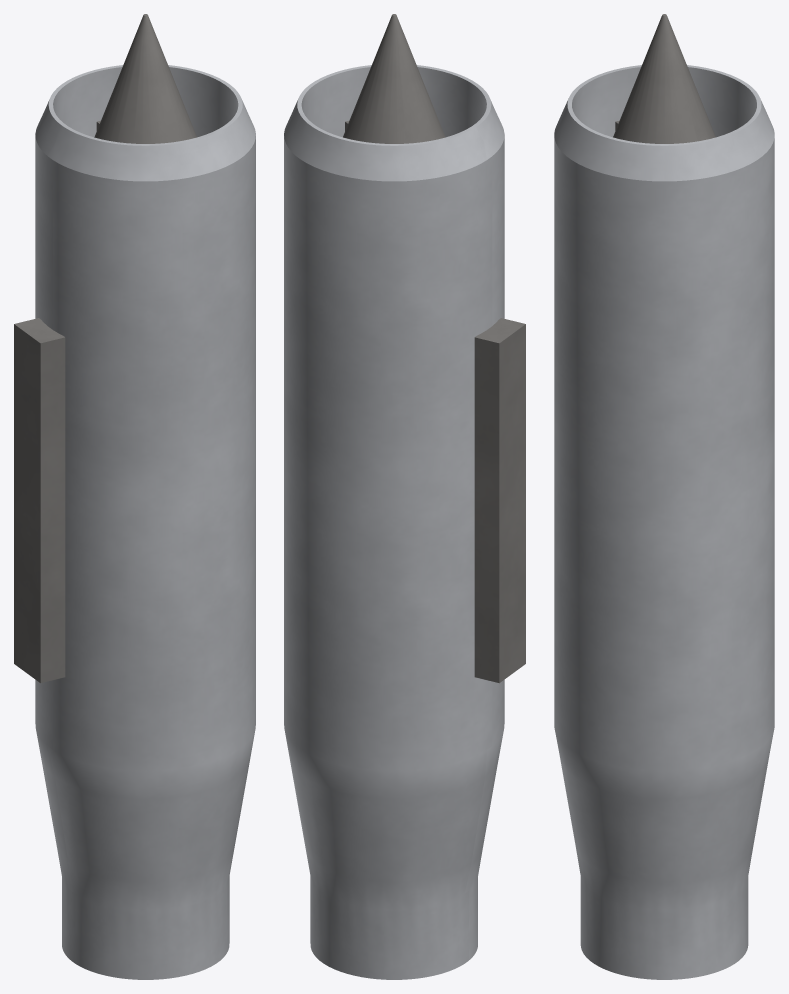
Rendered from jet04_ramjet.glb.
3 renders of one model, left to right at view 1: azimuth 30°, elevation 25°; view 2: azimuth 150°, elevation 25°; view 3: azimuth 270°, elevation 25°, orthographic.
Parts seen in each view (by area): view 1: body, pylon, centrebody; view 2: body, pylon, centrebody; view 3: body, centrebody.
Part boxes in pixels (<box>): body: <box>35,65,255,979</box>; pylon: <box>14,318,65,683</box>; centrebody: <box>94,14,196,143</box>; body: <box>284,65,504,979</box>; pylon: <box>474,318,525,683</box>; centrebody: <box>343,14,445,143</box>; body: <box>554,65,774,979</box>; centrebody: <box>613,14,715,143</box>.
Size of the model in its own units: 1.12 by 4.65 by 0.9997.
Materials: 3 (3 with a texture image).
